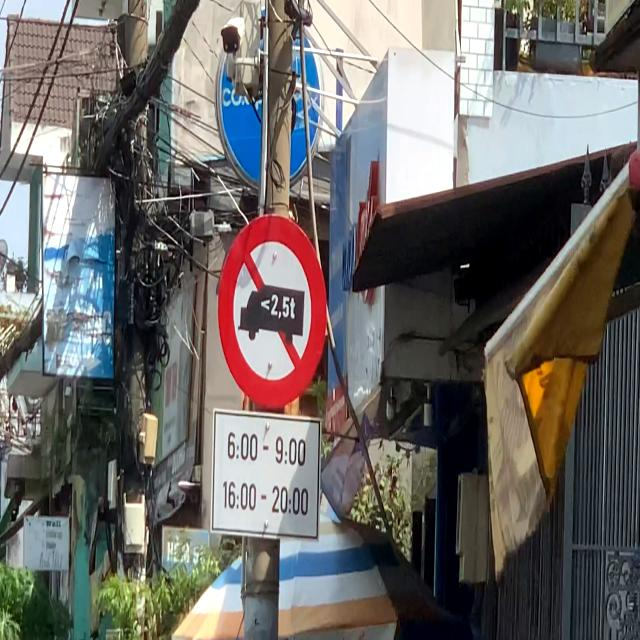P.106b: (218, 212, 328, 408)
